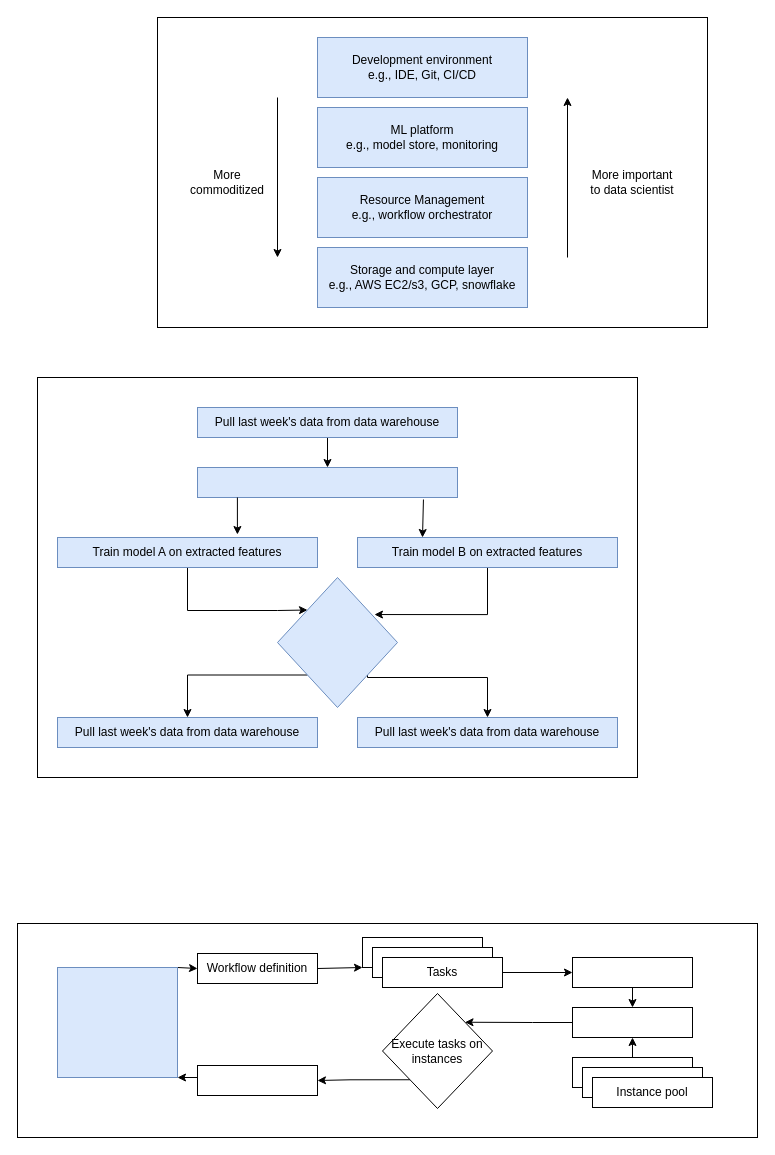
Image size: 775x1155. Some labels were removed from this diagram. Here are the shapes that lost their labels. From the top down, the centre of each, then its label:
At [327,482]: "Featurize data".
At [337,642]: "Compare A and B test set".
At [632,972]: "Schedulers".
At [117,1022]: "Data Scientis".
At [632,1022]: "Orchestrators".
At [257,1080]: "Results".
